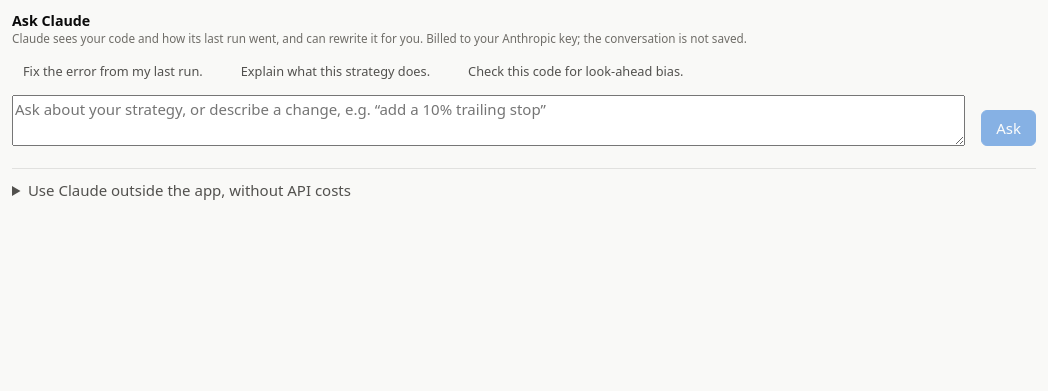
StrategyAssistant › sends the code and the last run with the question, and applies the revision
What coordinates should you click on to do the following:
click the button "Fix the error from my last run."
I would click on:
 (113, 71)
Its box is [12,57,214,85].
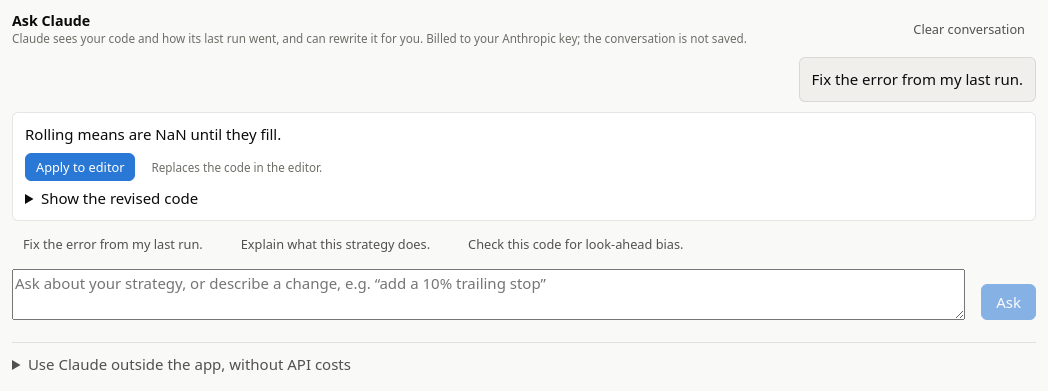
Expected: the text "Rolling means are NaN until they fill." is shown, [25,124,281,144]
What coordinates should you click on to do the following:
click the button "Apply to editor"
I would click on:
 (80, 167)
Its box is [25,153,136,181].
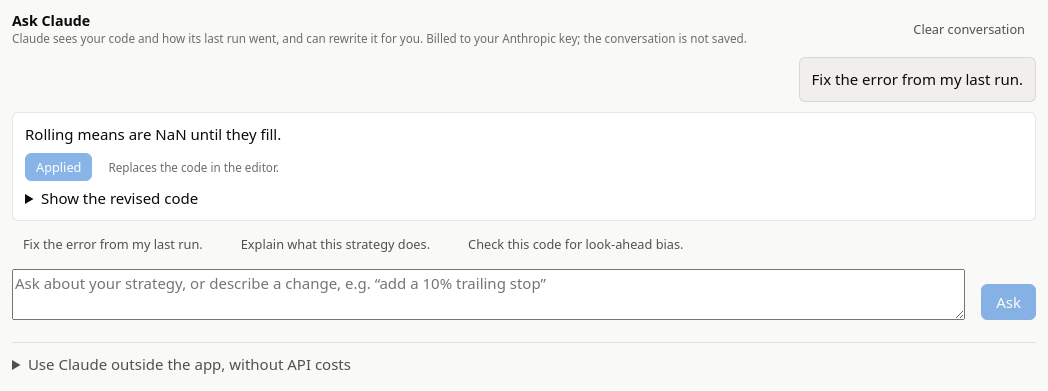
Expected: the button "Applied" is disabled, [25,153,92,181]
